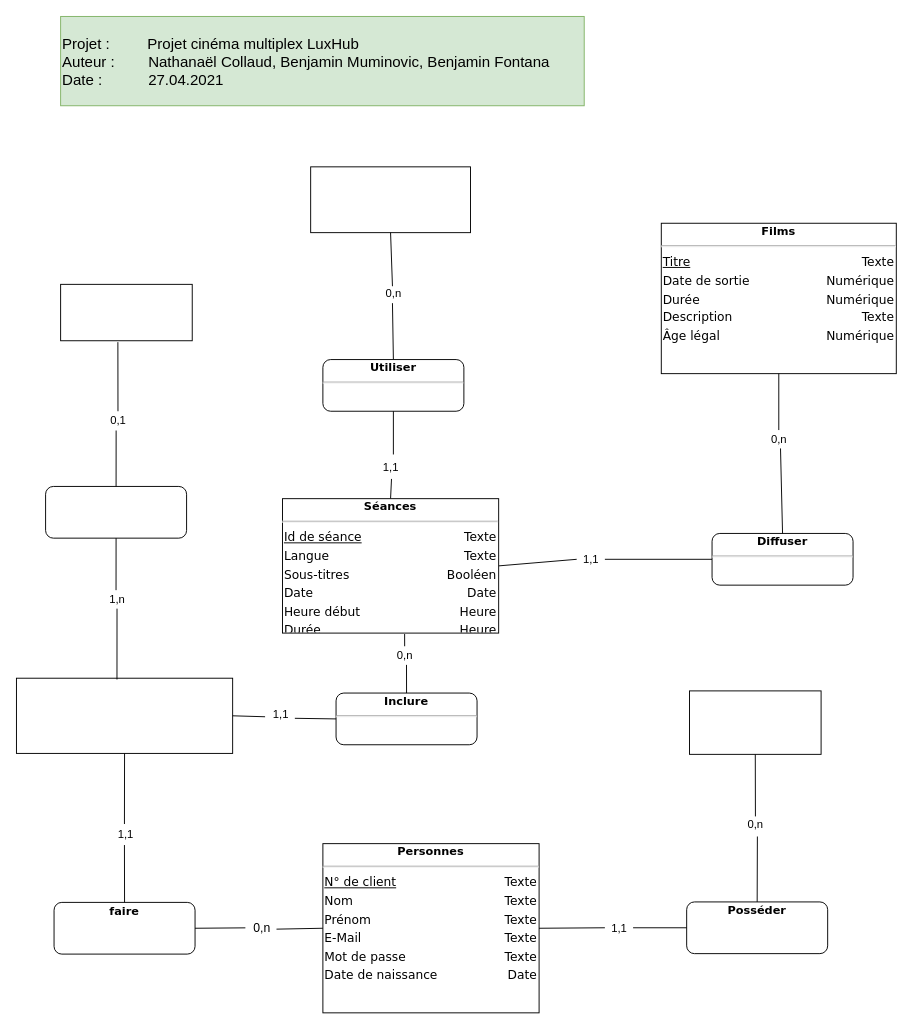
Image size: 913x1029. Some labels were removed from this diagram. The shapes that lost their labels are listed below. From the top down, each one's centre as x and y in pixels, then its label:
the point at 390,199: Salles Nom Texte
the point at 126,312: Siège Nom Texte
the point at 116,512: Réserver
the point at 124,715: Réservations Nombre billets Numérique N° de réservation Numérique
the point at 755,722: Type de compte Nom Texte
